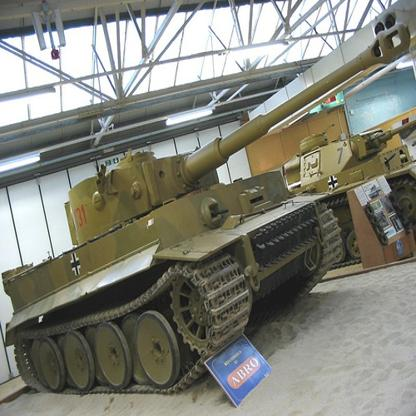Tank: (2, 23, 416, 406)
